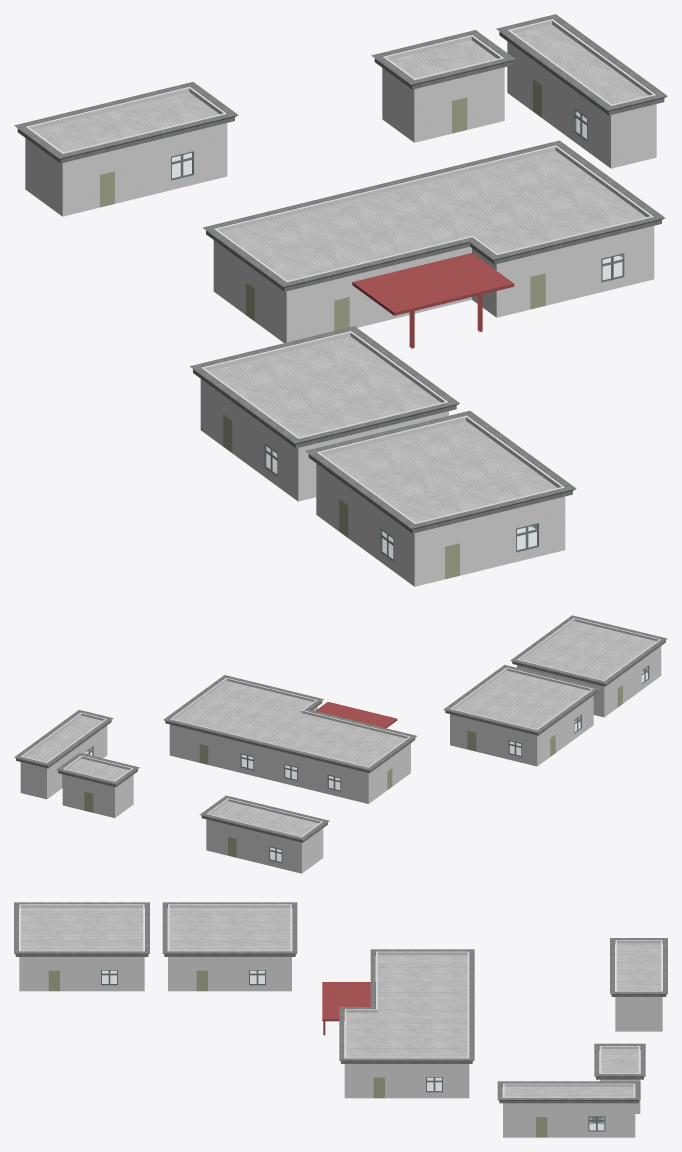
The model's file is Plan(REF)_levels(1)_window(W Double Sash 23_5)_wall(WAFRA WALL)_quoin(N)_cornice(Y).fbx.
The picture shows the model from 3 angles, top to bottom: view 1: azimuth 30°, elevation 25°; view 2: azimuth 150°, elevation 25°; view 3: azimuth 270°, elevation 25°; orthographic projection. The views are drawn at different scales.
Parts seen in each view (by area): view 1: WAFRA Stucco - White Rough 23, WAFRA Roof - Corrugated Sheet Matte 23, Concrete - Structural, WAFRA Roof - Standing Seam Red Coat 23, Color - Beige, Glass - Clear, Metal - Finish - Aluminum; view 2: WAFRA Stucco - White Rough 23, WAFRA Roof - Corrugated Sheet Matte 23, Concrete - Structural, Color - Beige, WAFRA Roof - Standing Seam Red Coat 23, Metal - Finish - Aluminum, Glass - Clear; view 3: WAFRA Roof - Corrugated Sheet Matte 23, WAFRA Stucco - White Rough 23, Concrete - Structural, WAFRA Roof - Standing Seam Red Coat 23, Color - Beige, Glass - Clear, Metal - Finish - Aluminum.
Boxes of the visible parts, x1,y1,x2,y2 form: WAFRA Stucco - White Rough 23: [25, 19, 656, 586]; WAFRA Roof - Corrugated Sheet Matte 23: [33, 24, 648, 522]; Concrete - Structural: [14, 14, 667, 533]; WAFRA Roof - Standing Seam Red Coat 23: [352, 253, 514, 348]; Color - Beige: [100, 79, 622, 579]; Glass - Clear: [172, 111, 622, 558]; Metal - Finish - Aluminum: [171, 108, 624, 561]; WAFRA Stucco - White Rough 23: [20, 618, 661, 873]; WAFRA Roof - Corrugated Sheet Matte 23: [25, 621, 656, 836]; Concrete - Structural: [14, 615, 667, 842]; Color - Beige: [62, 685, 622, 857]; WAFRA Roof - Standing Seam Red Coat 23: [315, 702, 397, 728]; Metal - Finish - Aluminum: [86, 665, 649, 863]; Glass - Clear: [86, 667, 647, 861]; WAFRA Roof - Corrugated Sheet Matte 23: [21, 907, 660, 1096]; WAFRA Stucco - White Rough 23: [19, 904, 662, 1137]; Concrete - Structural: [14, 902, 667, 1103]; WAFRA Roof - Standing Seam Red Coat 23: [322, 982, 375, 1035]; Color - Beige: [48, 970, 602, 1137]; Glass - Clear: [102, 971, 603, 1129]; Metal - Finish - Aluminum: [101, 970, 605, 1131].
Size of the model in its own units: 4244 by 5930 by 400.
Materials: 12 (5 with a texture image).
